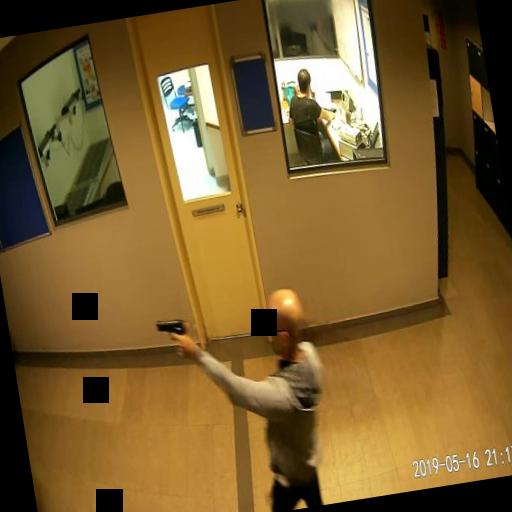Handgun: (152, 316, 188, 358)
